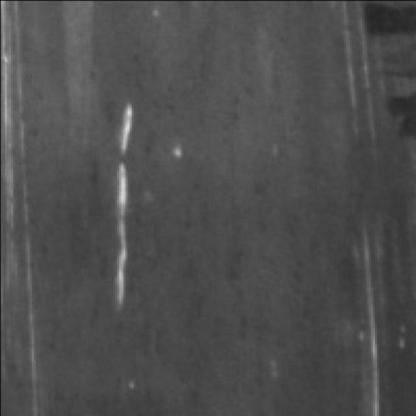inclusion: (360, 2, 412, 46)
scratches: (0, 35, 31, 412), (108, 96, 144, 310), (335, 6, 376, 133), (357, 239, 385, 416)
